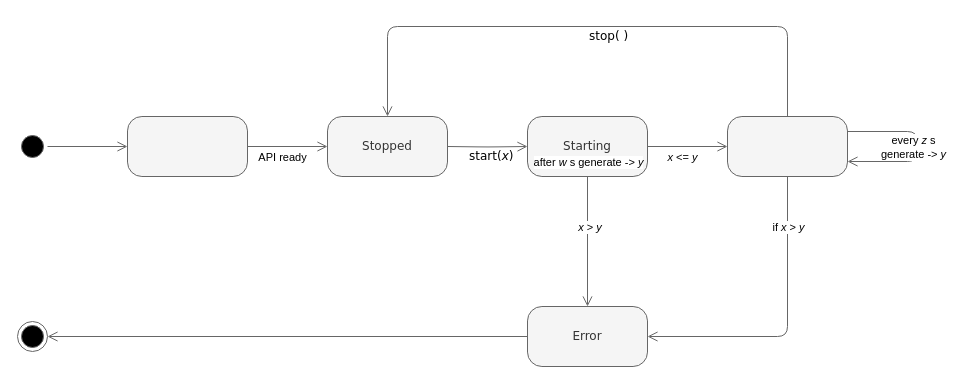
Some shapes in this 963 by 384 pixel diagram are drawn without their labels. The shapes that lost their labels are listed below. From the top down, each one's box as (x1, y1, x2, y2) in pixels, then its label:
(126, 116, 248, 176): Initialisation
(726, 116, 848, 176): Running
